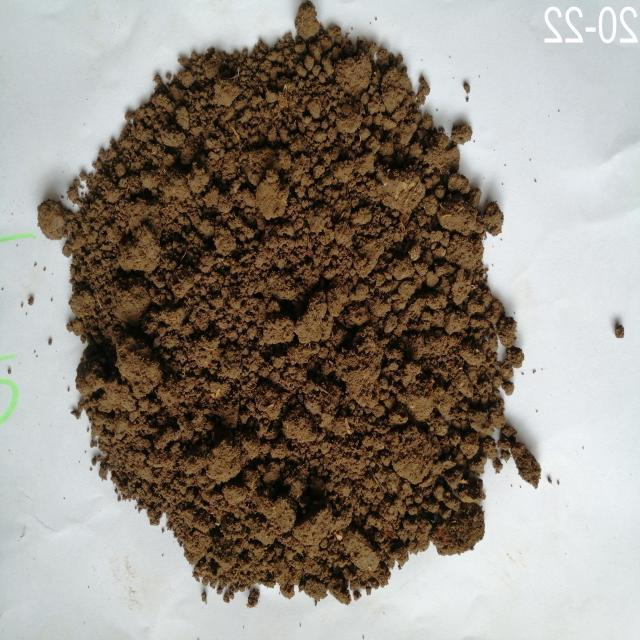soil: (142, 115, 434, 491)
